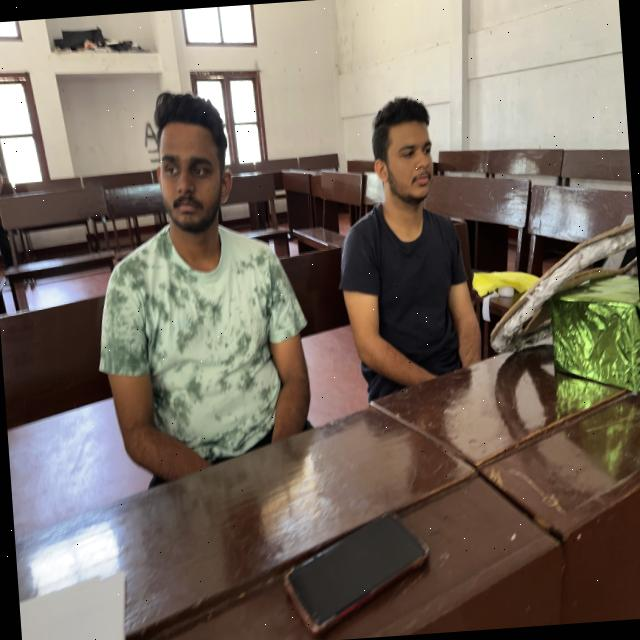Helmet: (90, 209, 316, 487), (336, 203, 485, 416)
